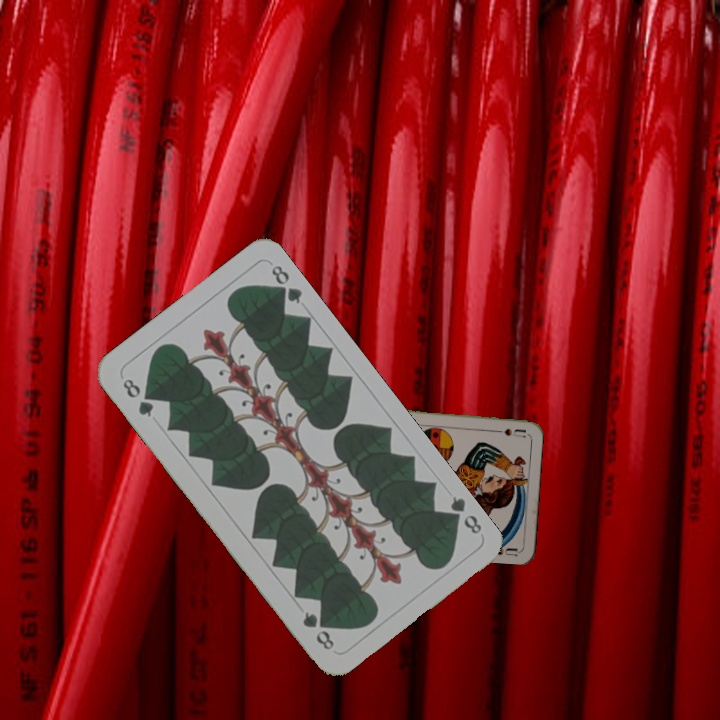G8: (442, 491, 485, 537), (118, 374, 157, 420)
SU: (487, 424, 527, 439)
